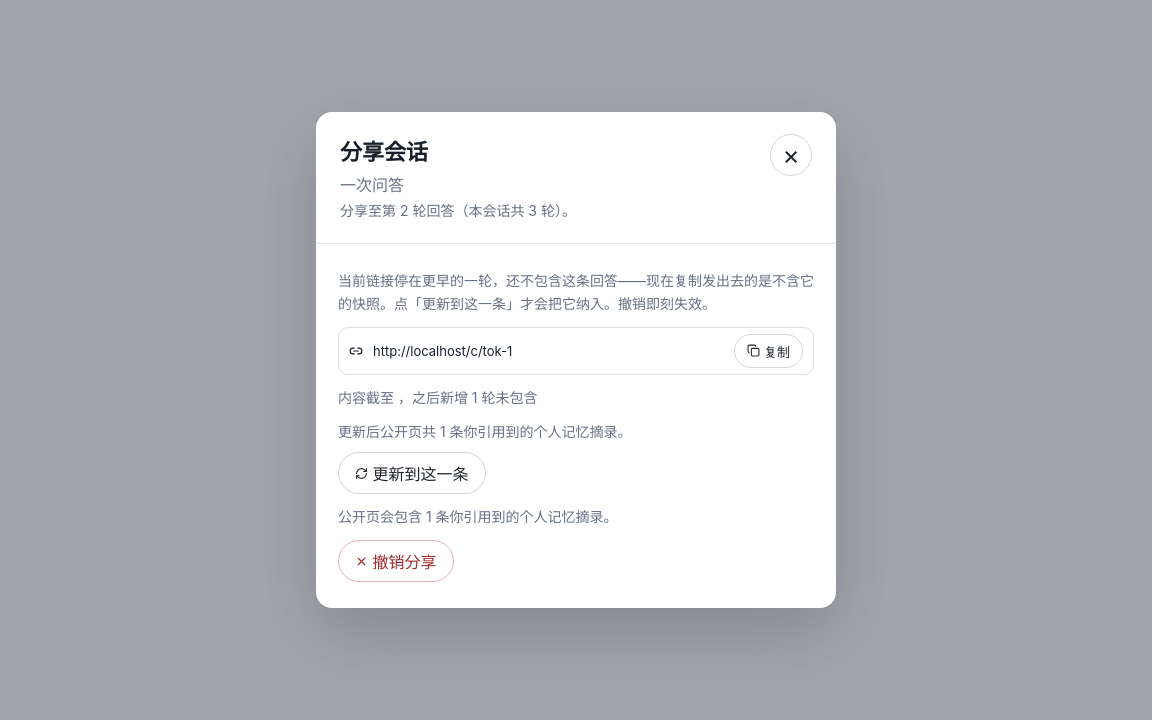
codex #530 R1 P2：边界模式的推进回执说「已更新到这一条」，不说「已更新到最新」
Click the button "更新到这一条". click: point(412, 473)
box: x1=338 y1=452 x2=486 y2=494
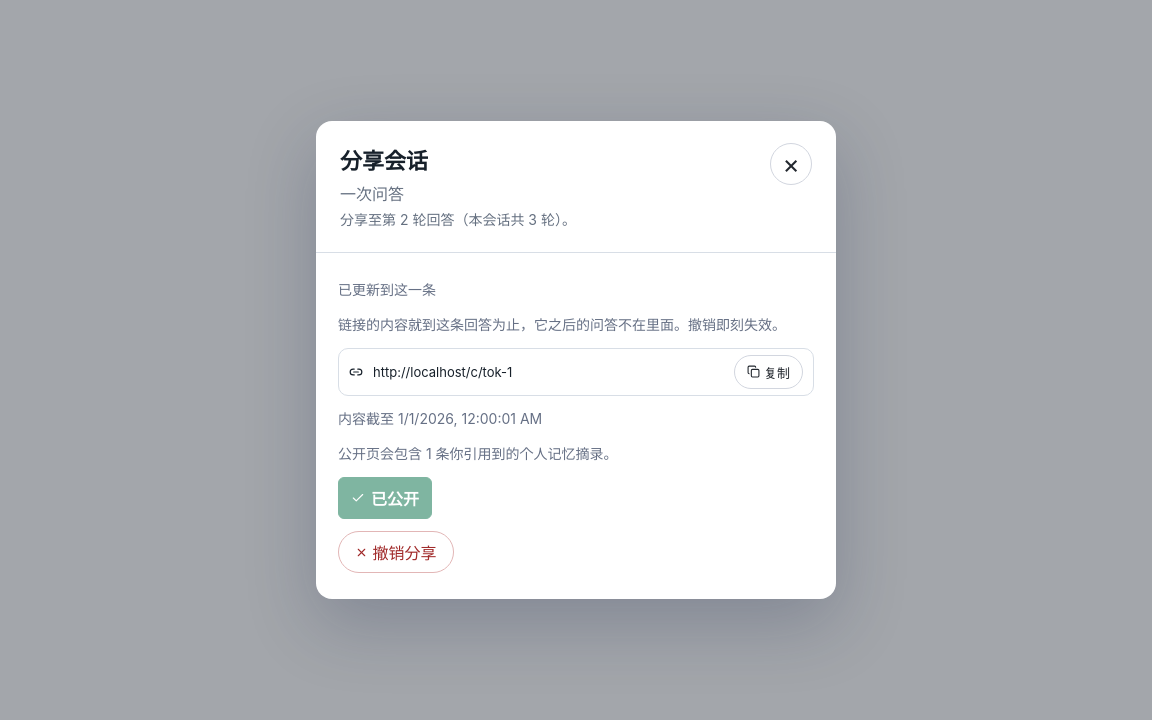
Expected: the text "已更新到这一条" is shown, x1=338 y1=282 x2=436 y2=298
